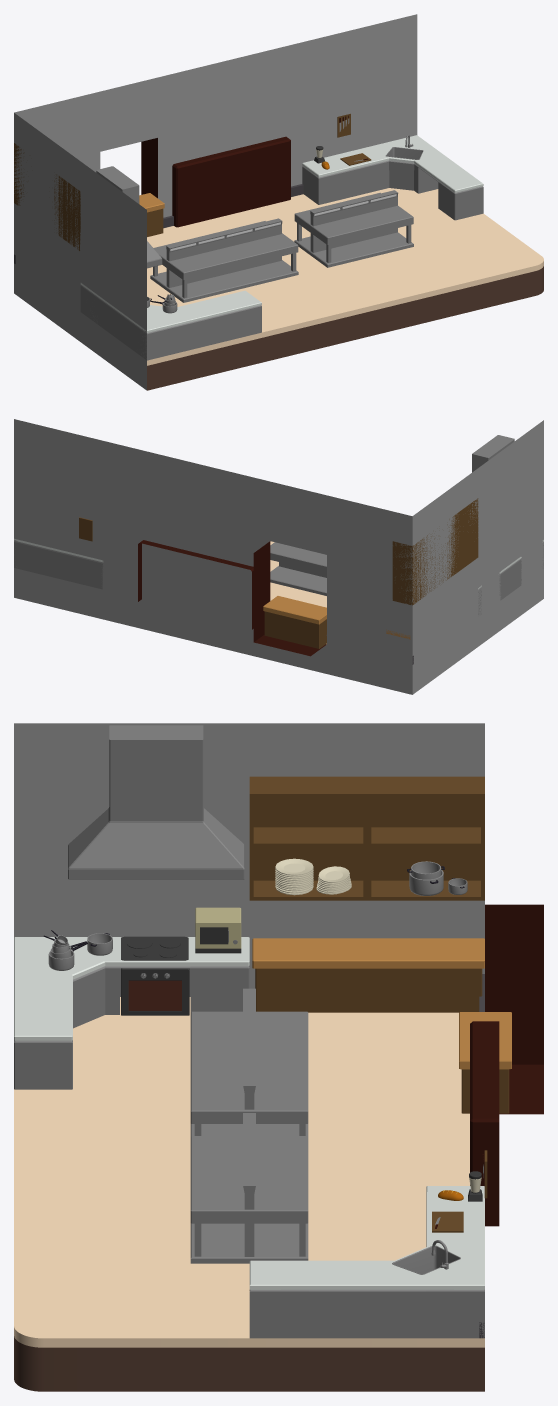
File: CuisineModel.fbx
The picture shows the model from 3 angles, top to bottom: view 1: azimuth 30°, elevation 25°; view 2: azimuth 150°, elevation 25°; view 3: azimuth 270°, elevation 25°; orthographic projection. The views are drawn at different scales.
Parts seen in each view (by area): view 1: Cuisine; view 2: Cuisine; view 3: Cuisine.
Boxes of the visible parts, bbox=[...] form: Cuisine: bbox=[14, 14, 543, 390]; Cuisine: bbox=[14, 419, 543, 694]; Cuisine: bbox=[14, 723, 543, 1391].
Bounding box in the file's own units: 14 × 9 × 6.
